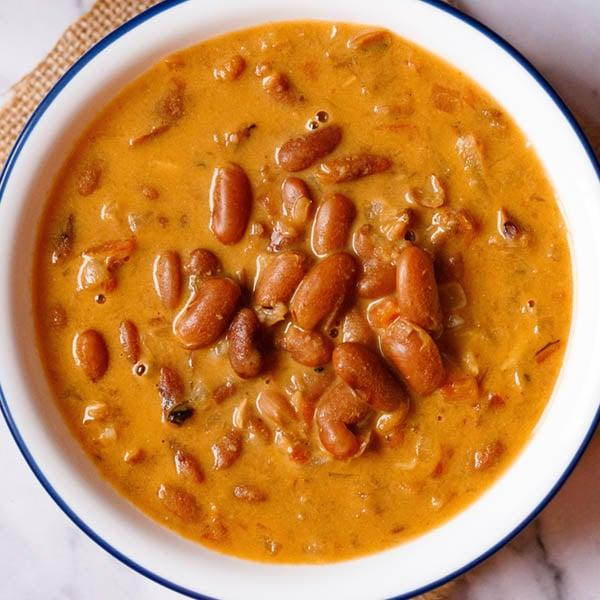rajma: (47, 95, 593, 533)
